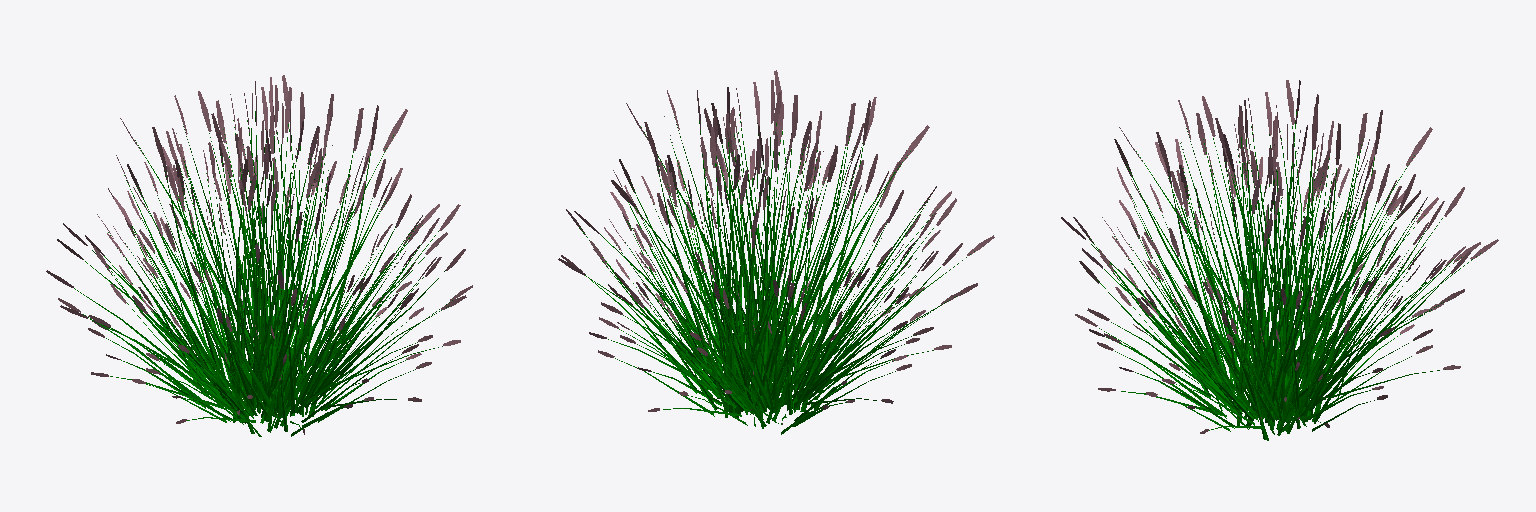
The model's file is grass3.obj.
3 renders of one model, left to right at view 1: azimuth 30°, elevation 25°; view 2: azimuth 150°, elevation 25°; view 3: azimuth 270°, elevation 25°, orthographic.
Size of the model in its own units: 36.35 by 28.99 by 36.44.